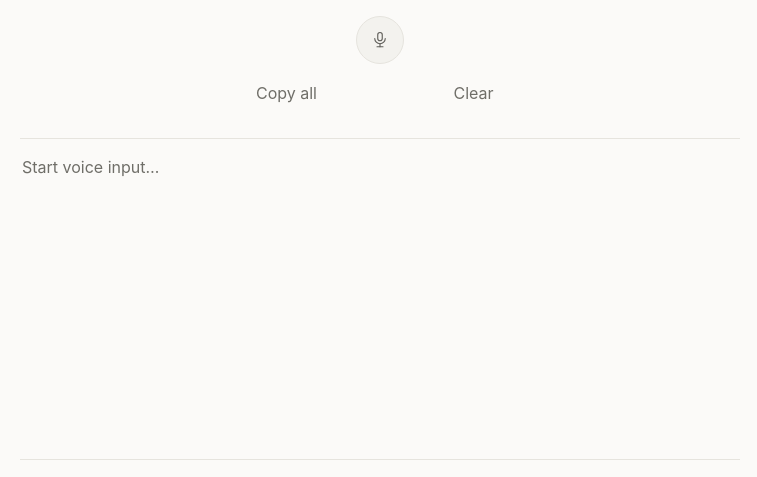
Test: VoiceView › closes the panel after opening a candidate
In the text box with placeholder "Start voice input…": (380, 299) [20,139,740,459], type "spoken words"
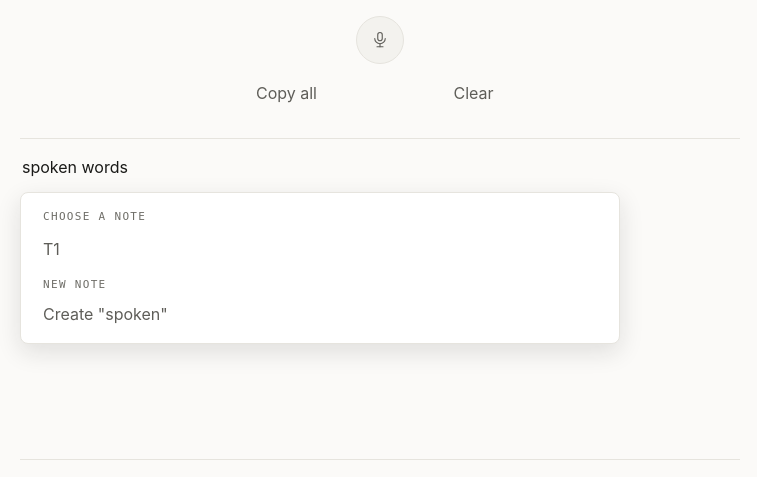
Click the button "T1": (51, 249) [33,232,575,266]
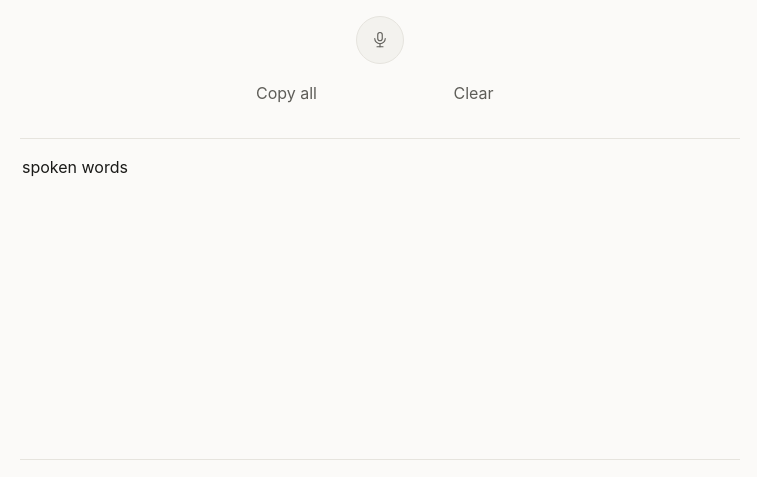
expect the button "T1" is gone: met
expect the button "Create \"spoken\"" is gone: met
